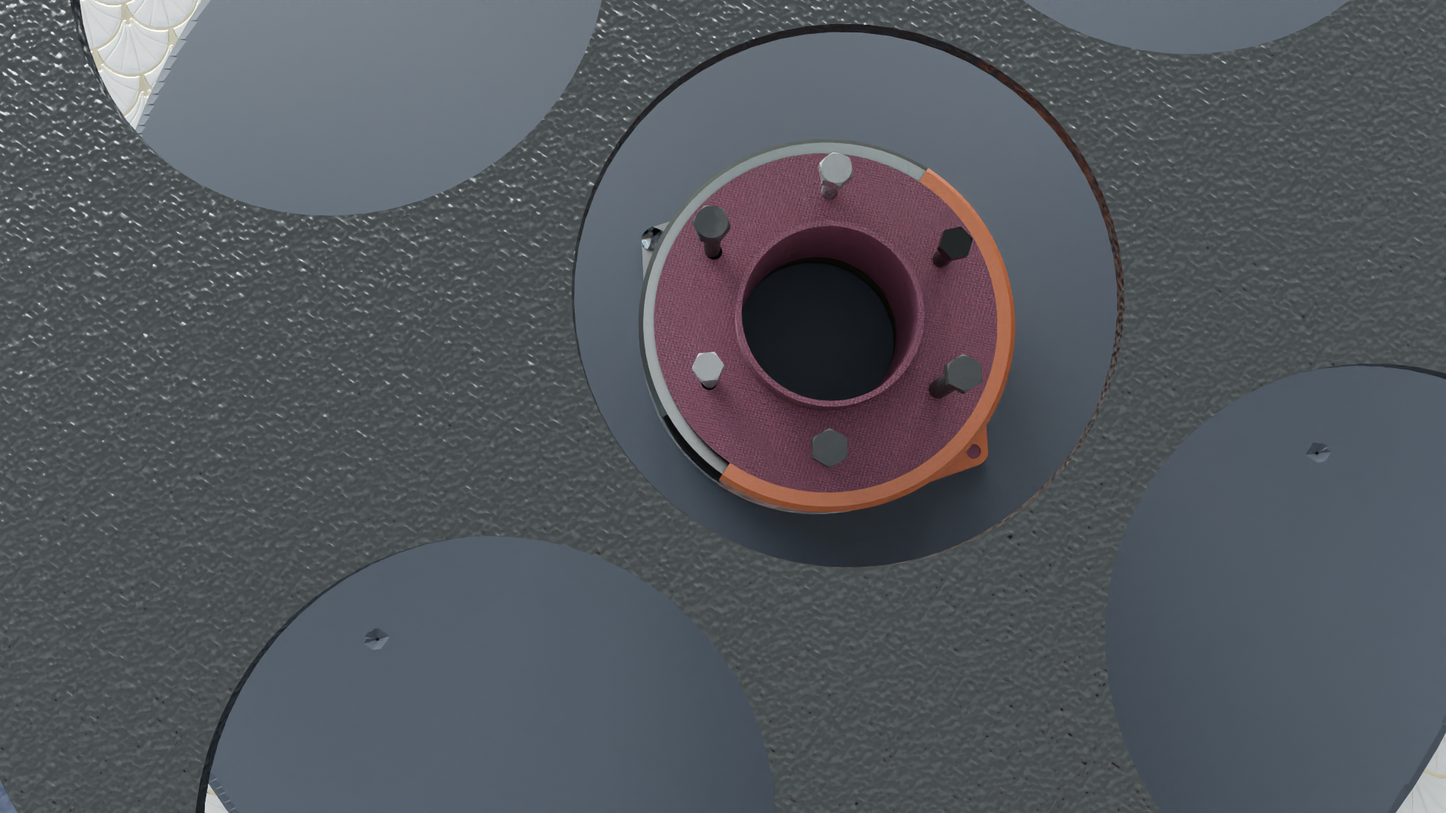bolt: (947, 354, 982, 392), (813, 428, 847, 467), (693, 206, 731, 240), (819, 152, 853, 186), (940, 227, 973, 259), (692, 352, 724, 382)
